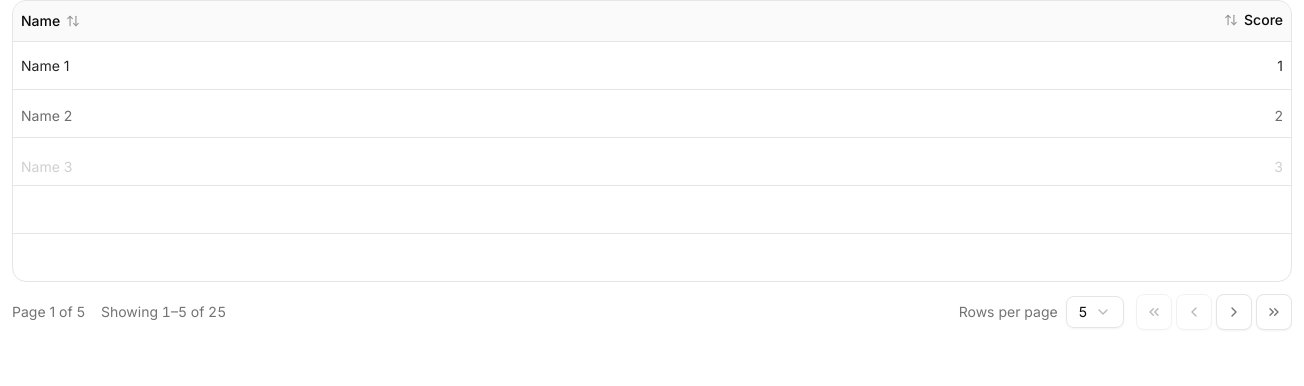
<DataTable /> — pager integration (usePagination) › offers the caller-supplied page sizes in the select
Click the dropdown named "Rows per page".
click(1095, 312)  # box [1066,296,1124,328]
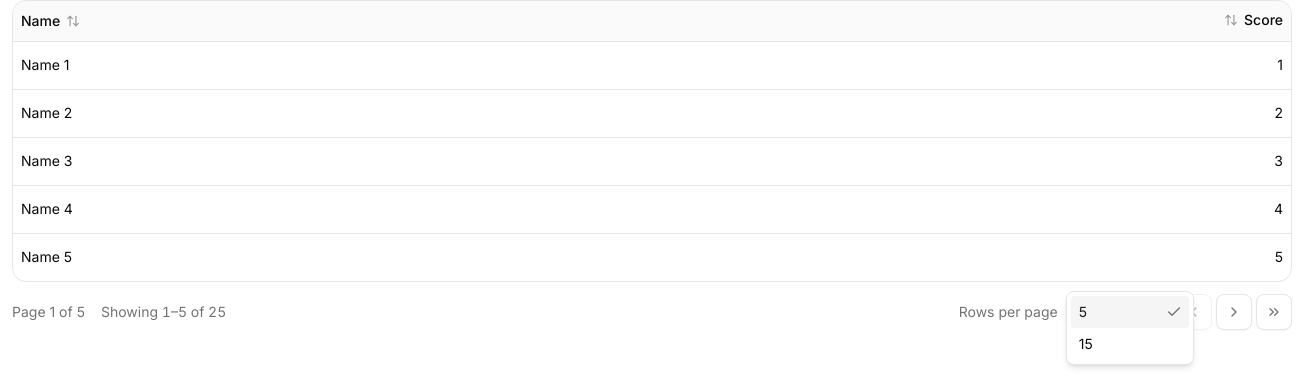
expect the options read "5", "15", in this order: met, box [1071,296,1189,328]; [1079,335,1093,352]
